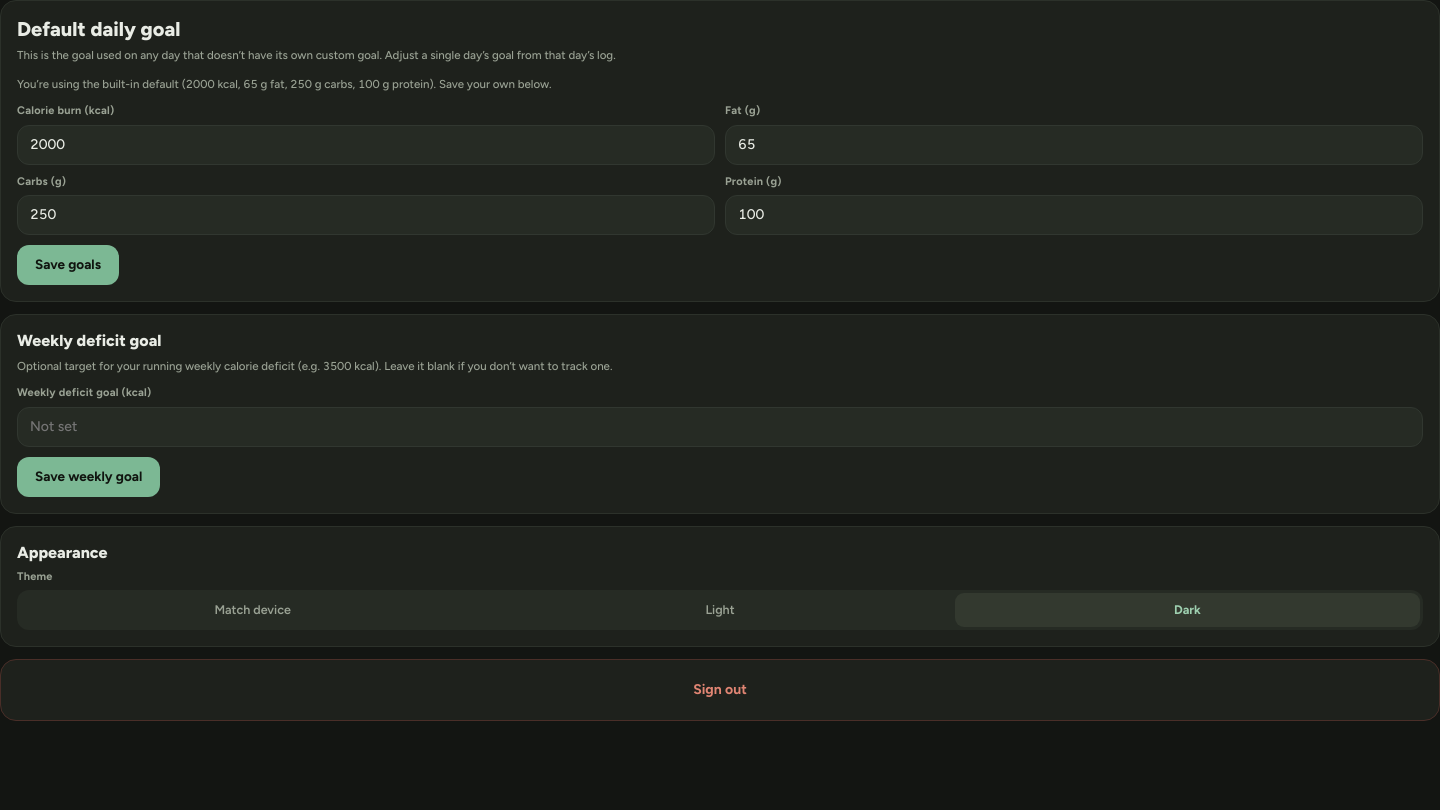
SettingsScreen macro/calorie mismatch warning › saves without warning when macros roughly match the calorie goal
Expected: the heading "Default daily goal" is shown, x1=17 y1=17 x2=180 y2=41
Note: Built-in defaults (2000 kcal vs ~1985 from macros) are within tolerance.
Click the button "Save goals". click: point(68, 265)
box: x1=17 y1=245 x2=119 y2=285
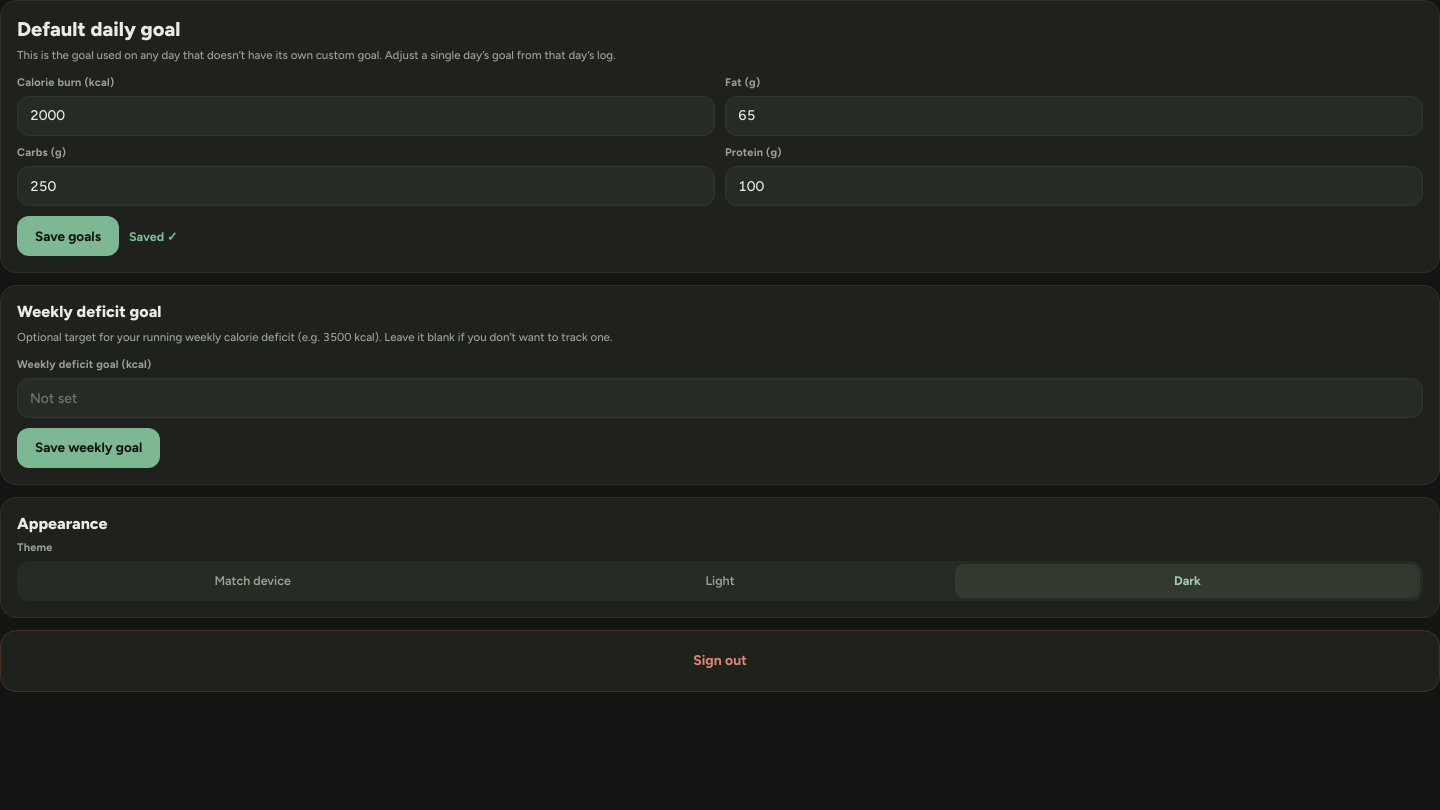
Expected: the text "Saved ✓" is shown, x1=129 y1=228 x2=178 y2=245
